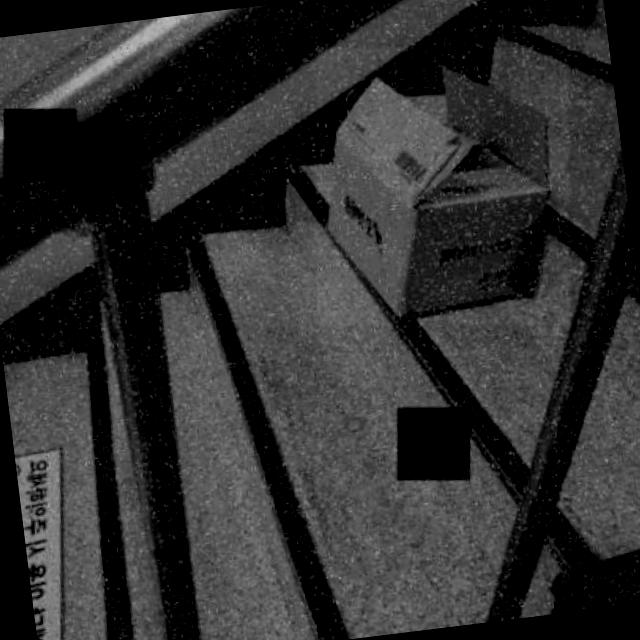box: (284, 15, 602, 353)
